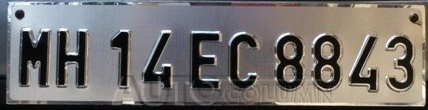character: (17, 26, 52, 89), (188, 27, 222, 91), (140, 29, 175, 90), (54, 27, 88, 88), (227, 30, 260, 90), (347, 33, 378, 93), (274, 33, 305, 92), (384, 34, 416, 91), (311, 33, 341, 93), (109, 27, 131, 92)
